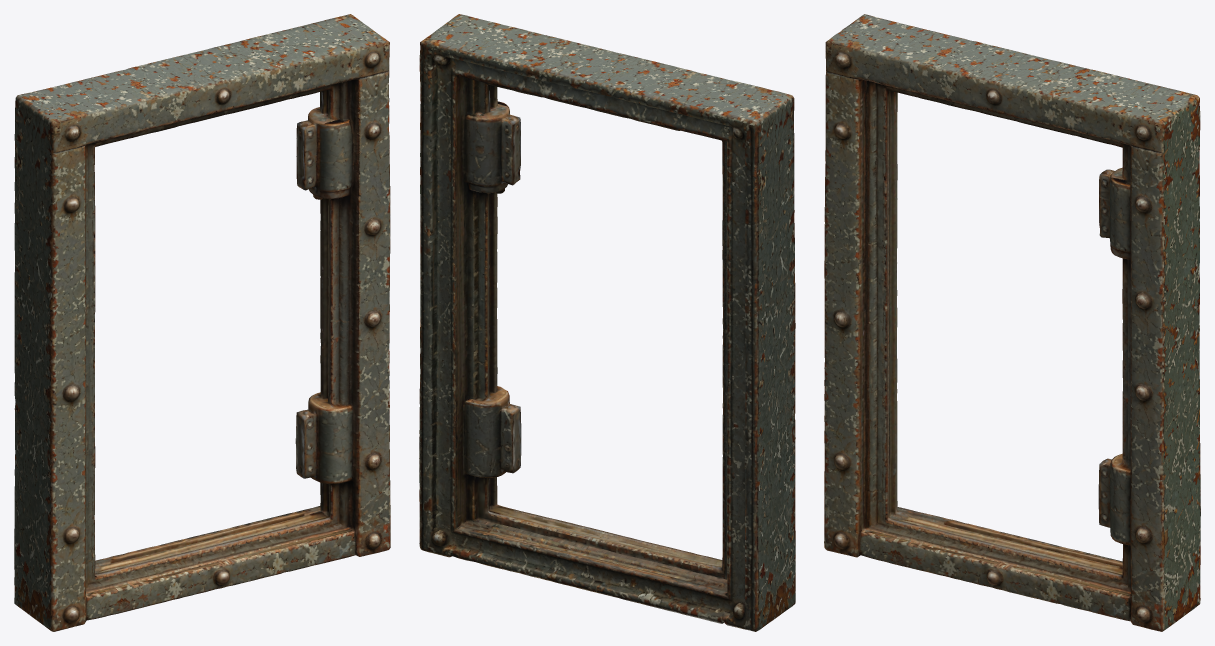
Rendered from BKI_DoorFrame.fbx.
3 renders of one model, left to right at view 1: azimuth 30°, elevation 25°; view 2: azimuth 150°, elevation 25°; view 3: azimuth 330°, elevation 25°, orthographic.
Parts seen in each view (by area): view 1: texture_mapping; view 2: texture_mapping; view 3: texture_mapping.
Part boxes in pixels (<box>): texture_mapping: <box>14,14,390,631</box>; texture_mapping: <box>419,14,795,631</box>; texture_mapping: <box>824,14,1200,631</box>.
Size of the model in its own units: 0.6984 by 0.1551 by 1.
Materials: 1 (1 with a texture image).
